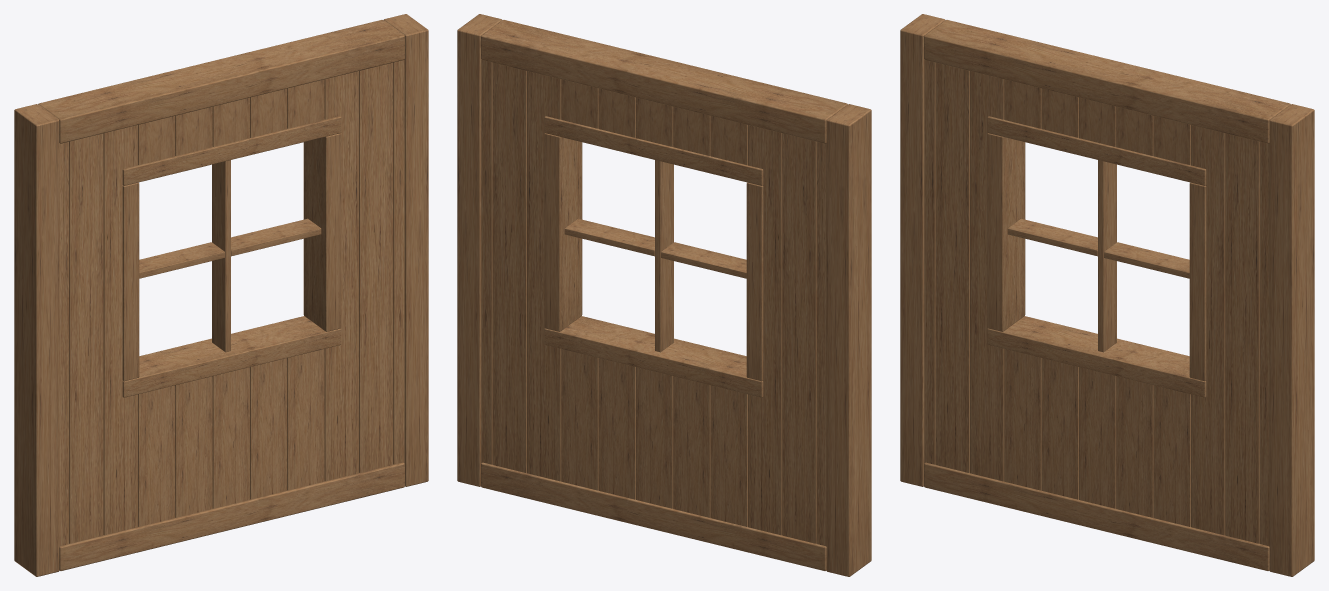
File: SM_FacilityRooms_WoodWindowWall200.fbx
The picture shows the model from 3 angles, left to right: view 1: azimuth 30°, elevation 25°; view 2: azimuth 150°, elevation 25°; view 3: azimuth 330°, elevation 25°; orthographic projection.
Visible parts, largest first — view 1: SM_FacilityRooms_WoodWindowWall200; view 2: SM_FacilityRooms_WoodWindowWall200; view 3: SM_FacilityRooms_WoodWindowWall200.
Part boxes in pixels (x1,y1,x2,y2): SM_FacilityRooms_WoodWindowWall200: [14, 14, 428, 576]; SM_FacilityRooms_WoodWindowWall200: [457, 14, 871, 576]; SM_FacilityRooms_WoodWindowWall200: [900, 14, 1314, 576].
Size of what is drawn, in the model's own units: 200 by 20 by 220.
